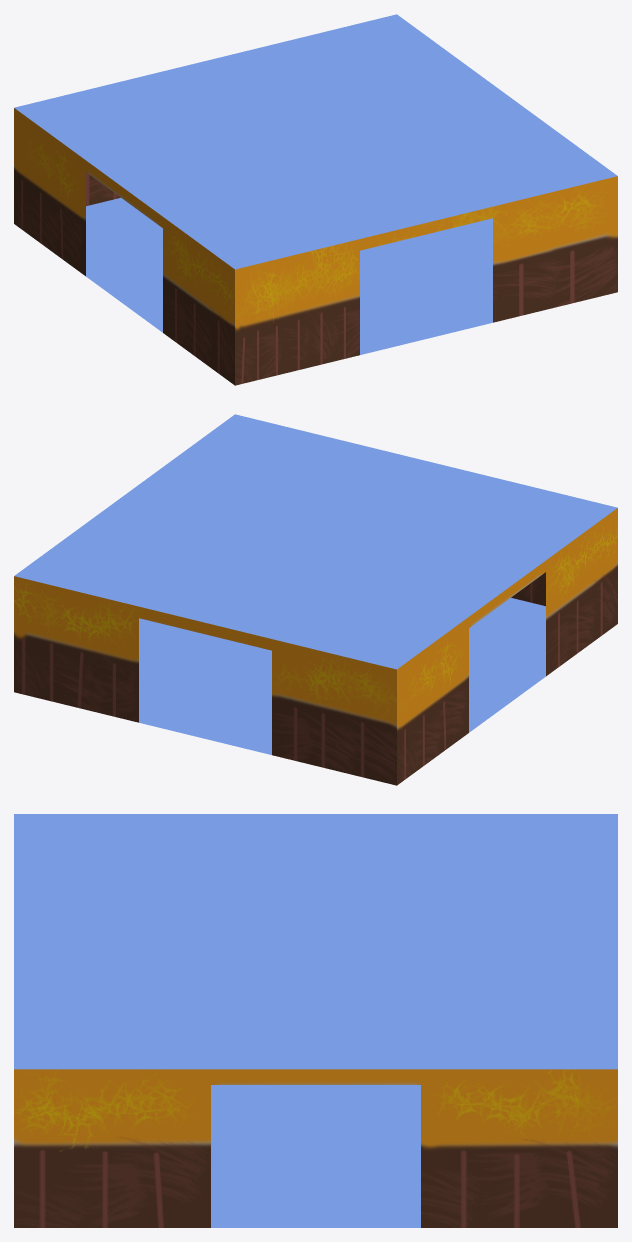
File: Sala_2.obj
3 views of the same model, one above another, from view 1: azimuth 30°, elevation 25°; view 2: azimuth 150°, elevation 25°; view 3: azimuth 270°, elevation 25° (orthographic). The views are drawn at different scales.
Parts seen in each view (by area): view 1: Sala_2; view 2: Sala_2; view 3: Sala_2.
Boxes of the visible parts, <box> form: Sala_2: <box>14,14,617,385</box>; Sala_2: <box>14,414,617,785</box>; Sala_2: <box>14,814,617,1227</box>.
Size of the model in its own units: 20.7 by 6 by 20.7.
